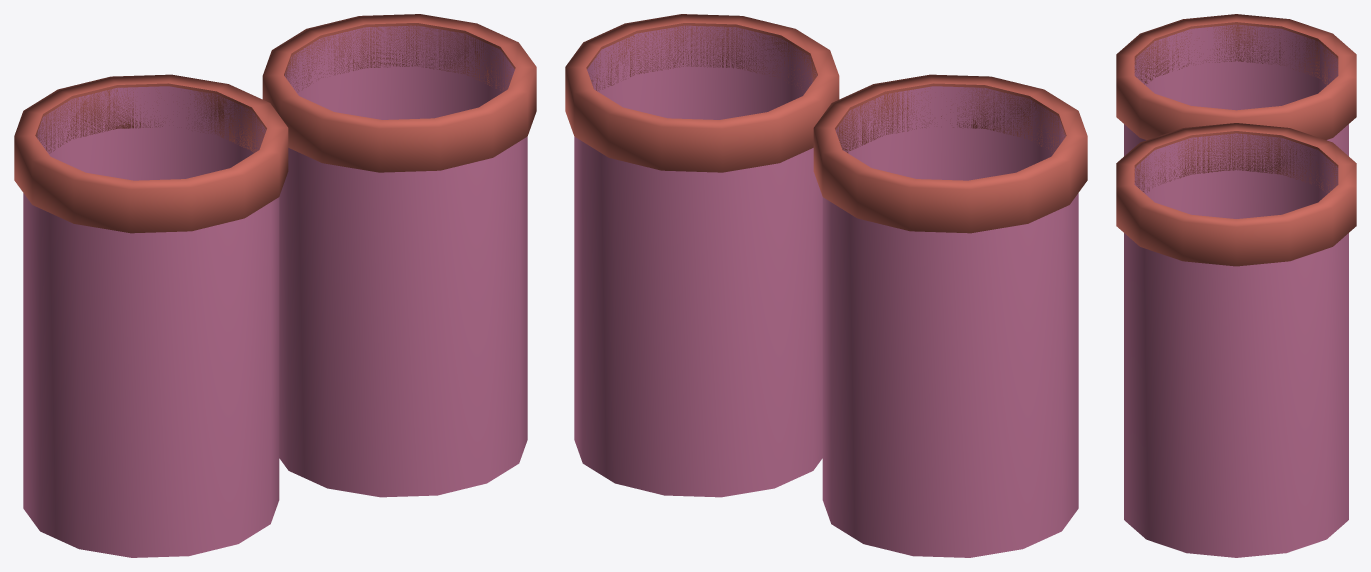
File: aerobics_leggings.glb
3 renders of one model, left to right at view 1: azimuth 30°, elevation 25°; view 2: azimuth 150°, elevation 25°; view 3: azimuth 270°, elevation 25°, orthographic. The views are drawn at different scales.
Parts seen in each view (by area): view 1: aerobics_leggings_LegL, aerobics_leggings_LegR; view 2: aerobics_leggings_LegL, aerobics_leggings_LegR; view 3: aerobics_leggings_LegR, aerobics_leggings_LegL.
Boxes of the visible parts, x1=… form: aerobics_leggings_LegL: x1=14, y1=74, x2=288, y2=557; aerobics_leggings_LegR: x1=262, y1=14, x2=536, y2=497; aerobics_leggings_LegL: x1=813, y1=74, x2=1087, y2=557; aerobics_leggings_LegR: x1=565, y1=14, x2=839, y2=497; aerobics_leggings_LegR: x1=1116, y1=123, x2=1356, y2=557; aerobics_leggings_LegL: x1=1116, y1=14, x2=1356, y2=155.
Bounding box in the file's own units: 0.372 × 0.272 × 0.1774.
